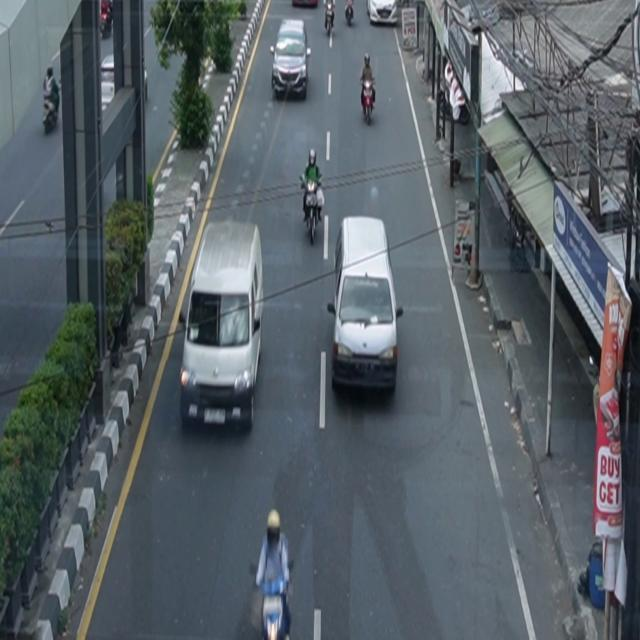bus: (180, 220, 265, 431)
car: (271, 19, 312, 101), (367, 1, 398, 26)
truck: (328, 215, 405, 397)
